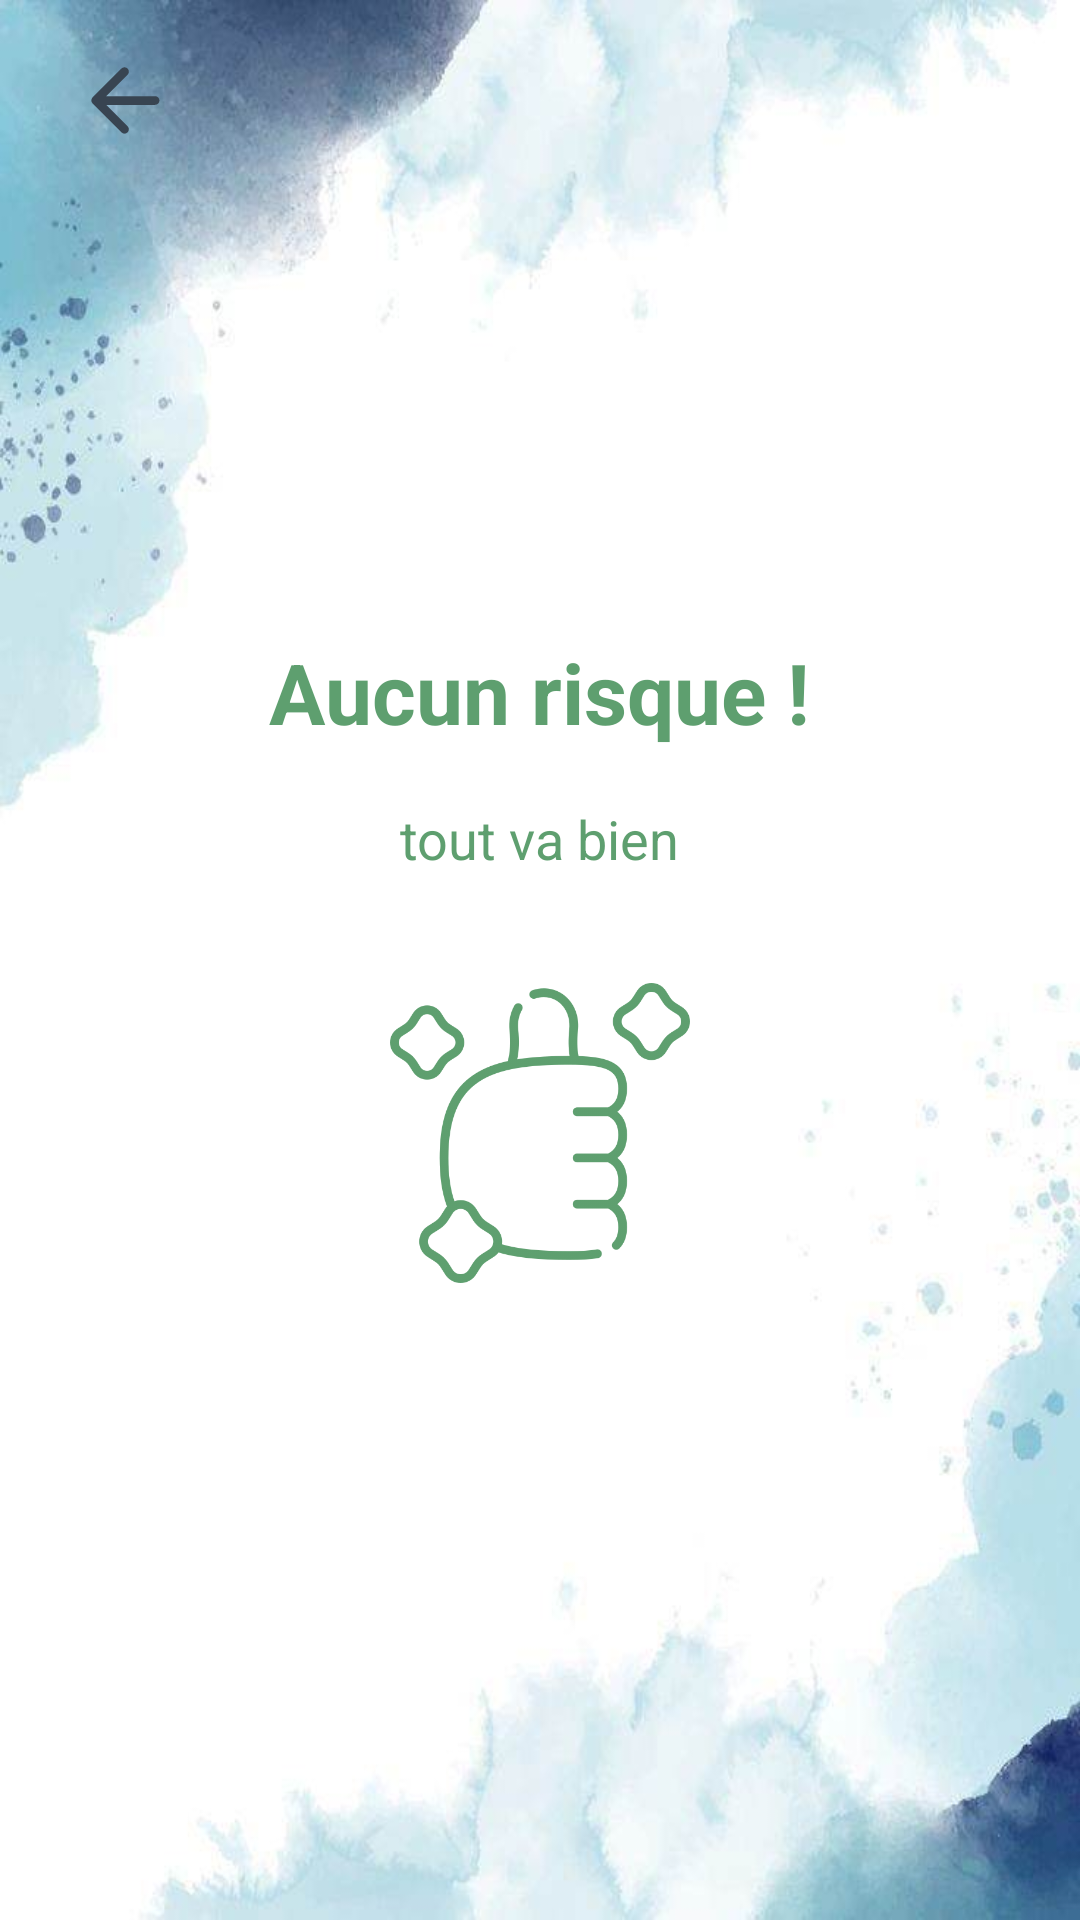

Point at icon controls on the screen. Image size 1080 x 1920, points as point (x, y).
back: point (124, 100)
done: point (540, 1133)
